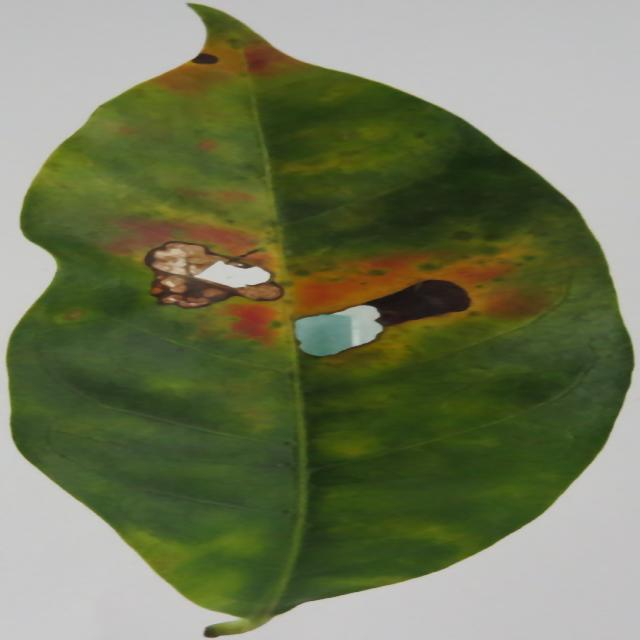DeficienciaNutricional-Fosforo: (9, 5, 631, 637)
